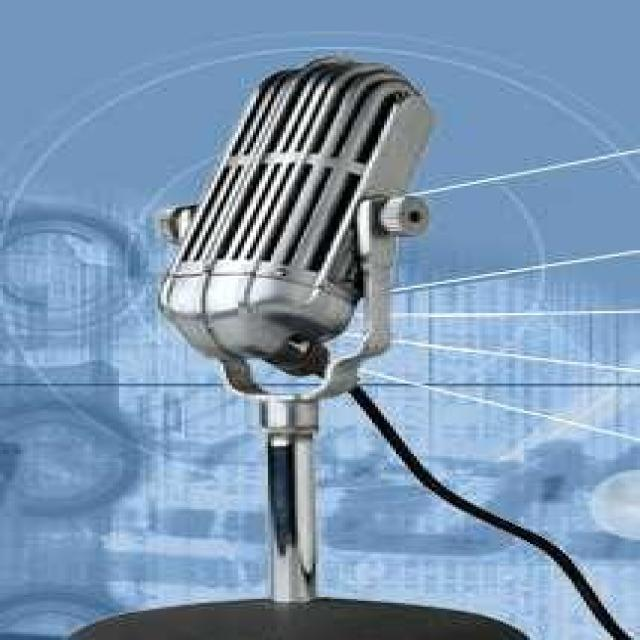microphone: (150, 56, 438, 394)
